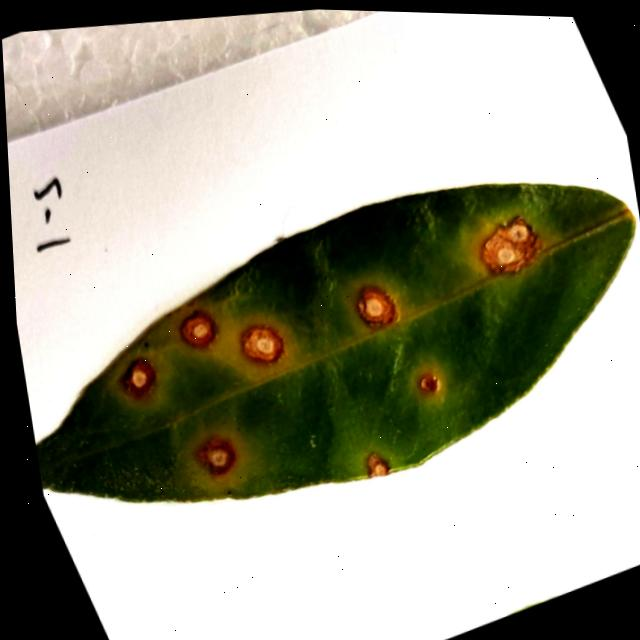antracnose: (34, 183, 634, 500), (481, 217, 539, 271), (357, 287, 395, 324), (242, 326, 282, 361), (196, 438, 234, 474), (179, 310, 214, 346), (121, 359, 154, 397), (366, 453, 388, 476), (420, 373, 437, 391)
